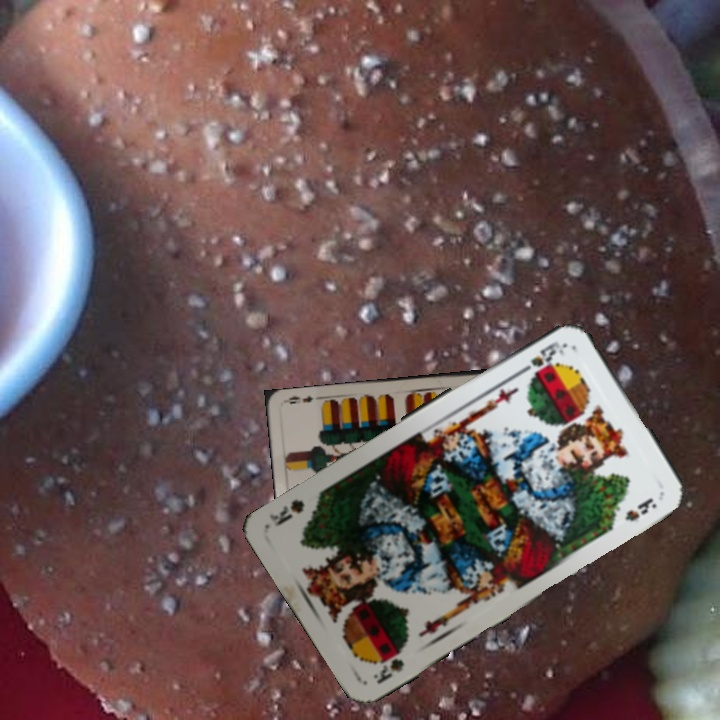SK: (513, 337, 567, 378), (369, 646, 407, 687)
